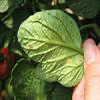Tomato mold leaf: (15, 9, 85, 91)
